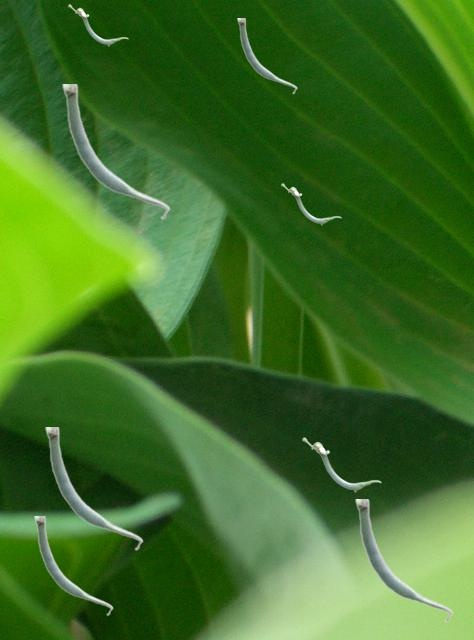french_bean: (62, 84, 169, 219), (45, 427, 142, 550), (355, 499, 452, 622), (34, 516, 112, 615), (237, 18, 296, 93), (302, 437, 380, 491), (68, 4, 127, 45), (281, 183, 340, 224)
